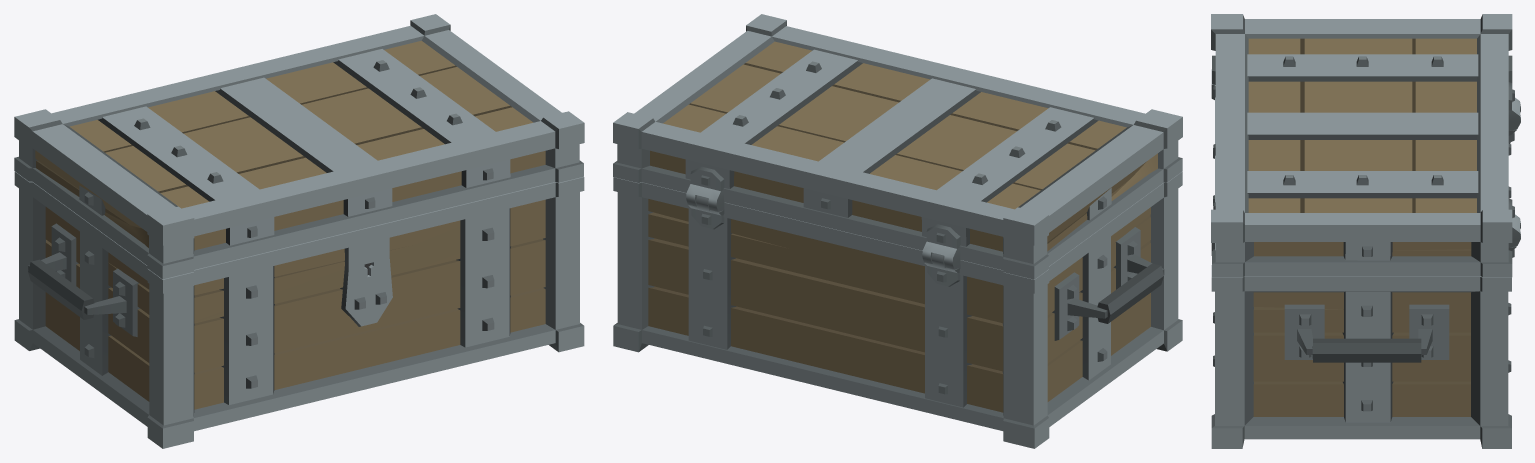
The model's file is PT_Medieval_Chest_01.fbx.
The picture shows the model from 3 angles, left to right: view 1: azimuth 30°, elevation 25°; view 2: azimuth 150°, elevation 25°; view 3: azimuth 270°, elevation 25°; orthographic projection.
Parts seen in each view (by area): view 1: PT_Medieval_Chest_01_lower, PT_Medieval_Chest_01_upper; view 2: PT_Medieval_Chest_01_lower, PT_Medieval_Chest_01_upper; view 3: PT_Medieval_Chest_01_upper, PT_Medieval_Chest_01_lower.
Boxes of the visible parts, left/top/right/bottom form: PT_Medieval_Chest_01_lower: left=14, top=171, right=584, bottom=448; PT_Medieval_Chest_01_upper: left=14, top=14, right=584, bottom=279; PT_Medieval_Chest_01_lower: left=613, top=171, right=1182, bottom=448; PT_Medieval_Chest_01_upper: left=613, top=14, right=1182, bottom=279; PT_Medieval_Chest_01_upper: left=1211, top=14, right=1520, bottom=277; PT_Medieval_Chest_01_lower: left=1211, top=69, right=1520, bottom=448.
Size of the model in its own units: 84.64 by 37.51 by 46.32.
Materials: 1 (1 with a texture image).
